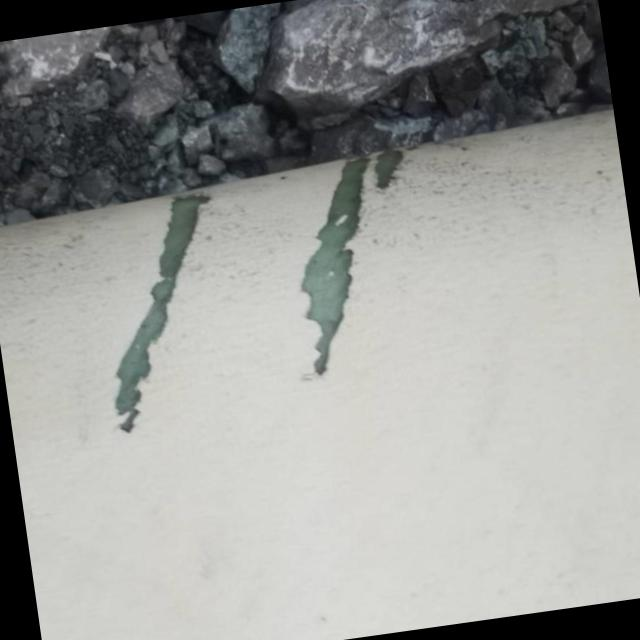surface_peeling: (90, 196, 244, 437), (285, 150, 436, 380)
